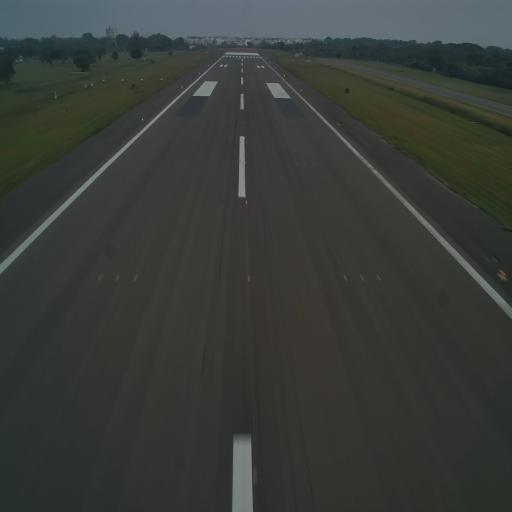off: (356, 270, 364, 285), (374, 271, 381, 282), (342, 272, 348, 283), (98, 270, 103, 283), (133, 271, 138, 284), (115, 271, 120, 283), (311, 158, 316, 168), (335, 120, 340, 128), (294, 160, 298, 169), (175, 158, 179, 166), (303, 161, 307, 168), (166, 160, 171, 165), (185, 159, 189, 165), (283, 119, 287, 125), (289, 121, 292, 127), (192, 118, 194, 124), (204, 118, 206, 124), (278, 121, 280, 127), (198, 119, 200, 123)
on: (495, 261, 508, 287), (244, 273, 252, 284), (243, 196, 249, 207), (242, 135, 248, 142), (243, 159, 247, 168), (140, 117, 146, 123), (242, 118, 247, 125)
